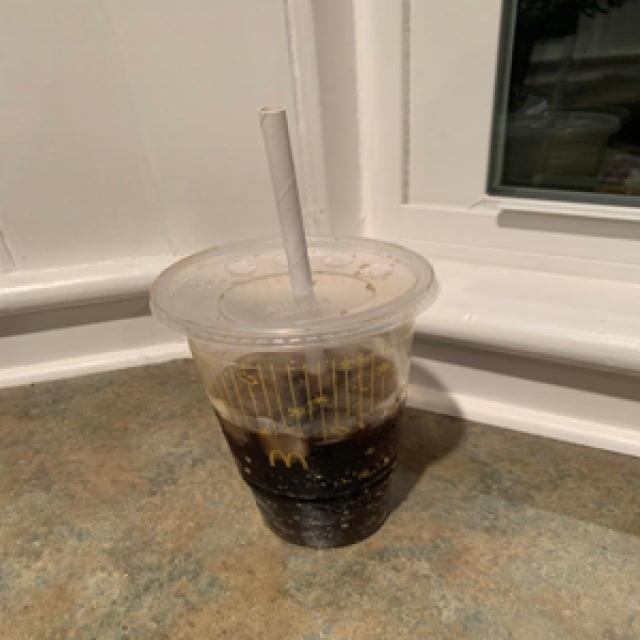plastic cup: (115, 224, 482, 557)
